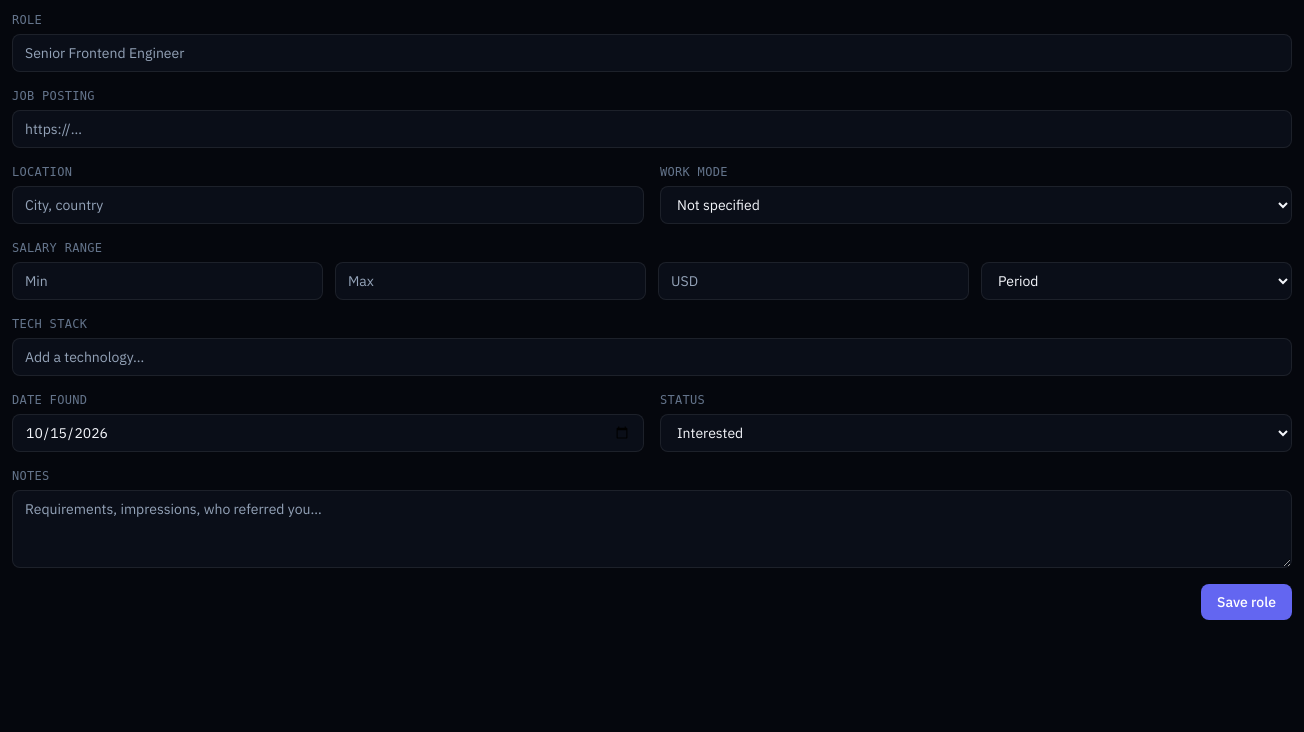
Test: ApplicationForm › rejects a javascript: job link
Type "r" into the field labelled "Role" at (652, 53), box [12,34,1292,72]
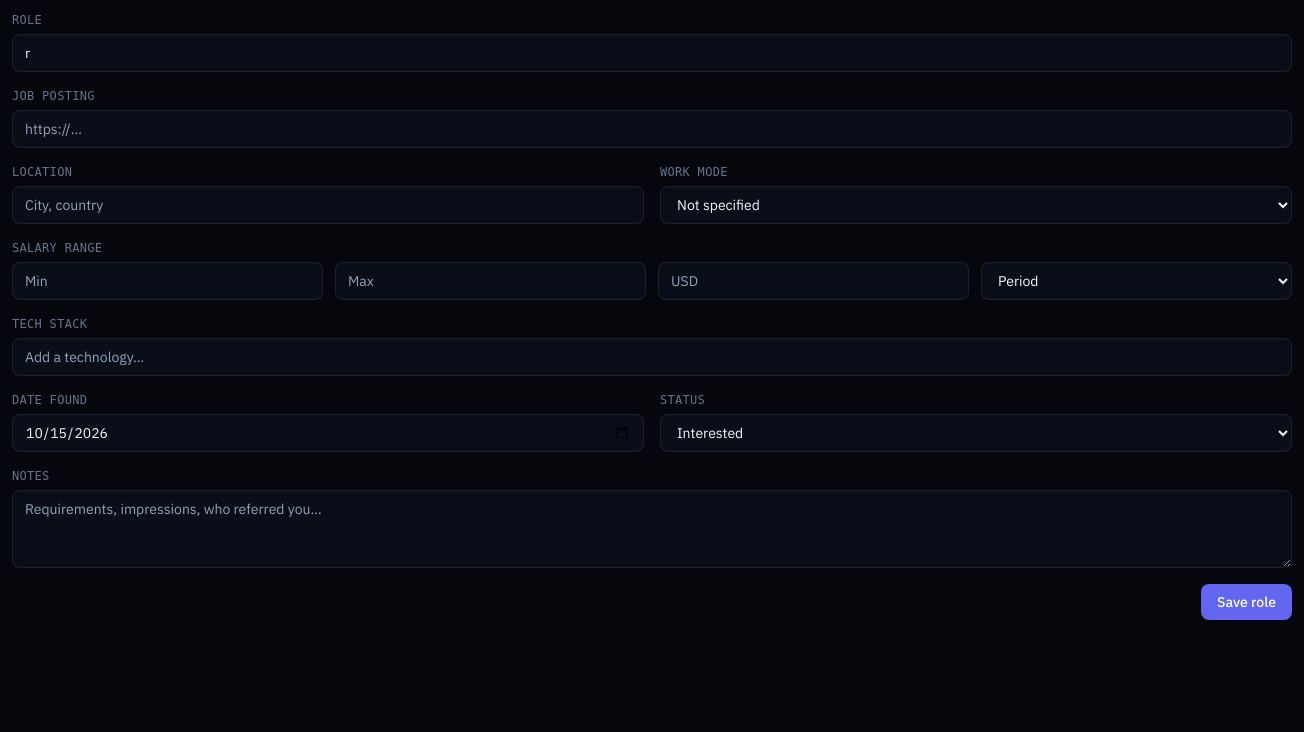
Type "javascript:alert(1)" into the field labelled "Job posting" at (652, 129), box [12,110,1292,148]
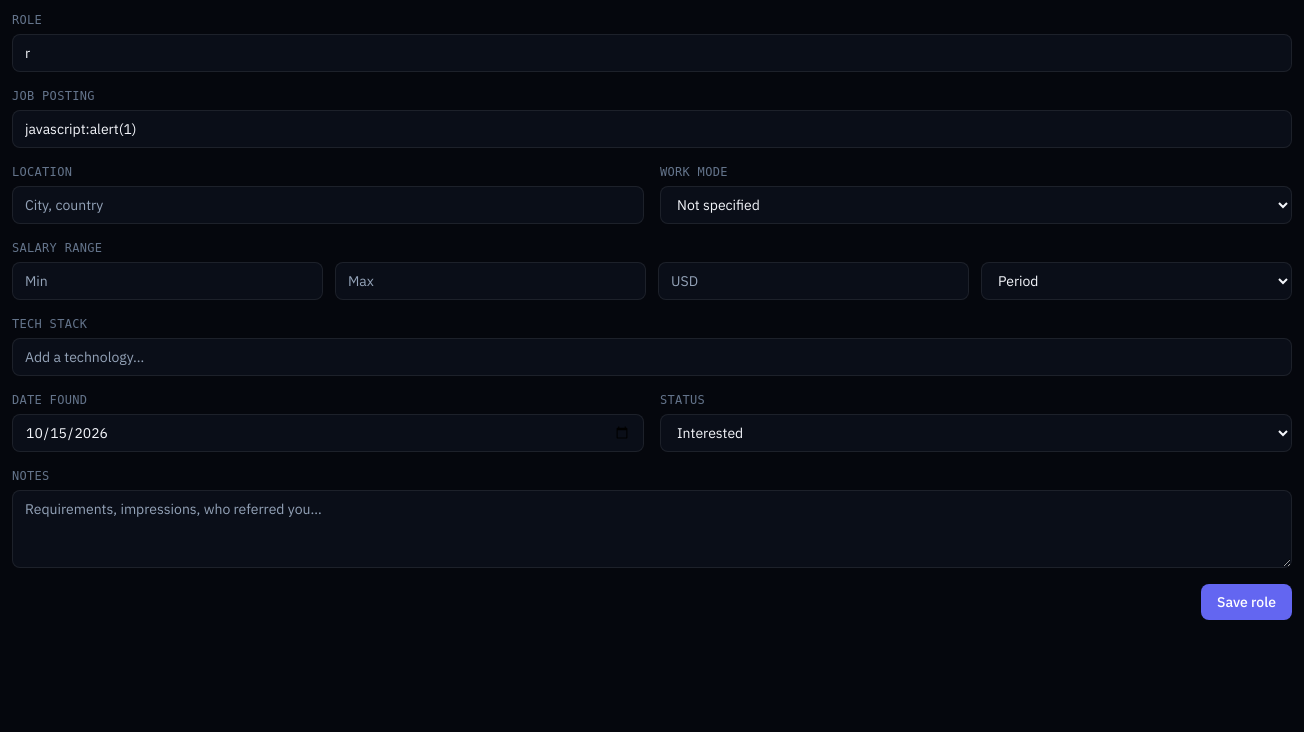
Click the button "Save role" at (1246, 602), box [1201,584,1292,620]
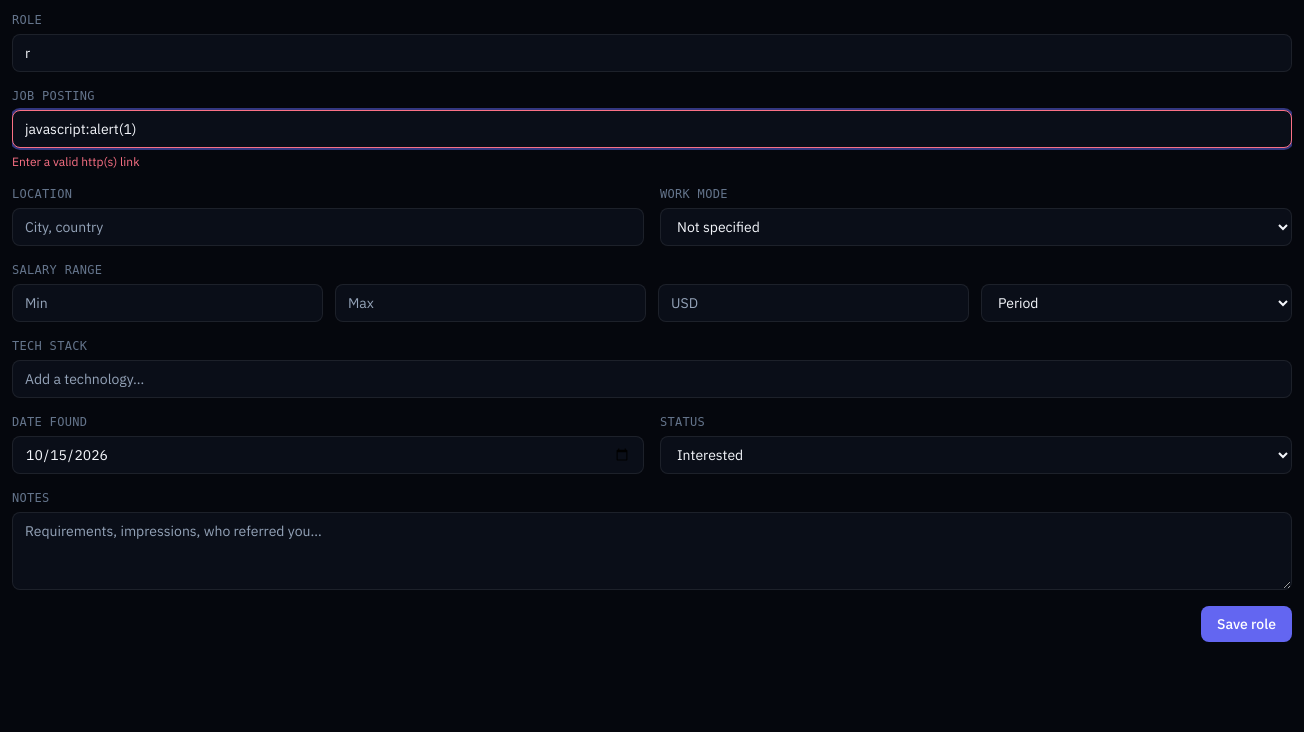
expect the text "Enter a valid http(s) link" is shown: met, box [12,154,140,169]
